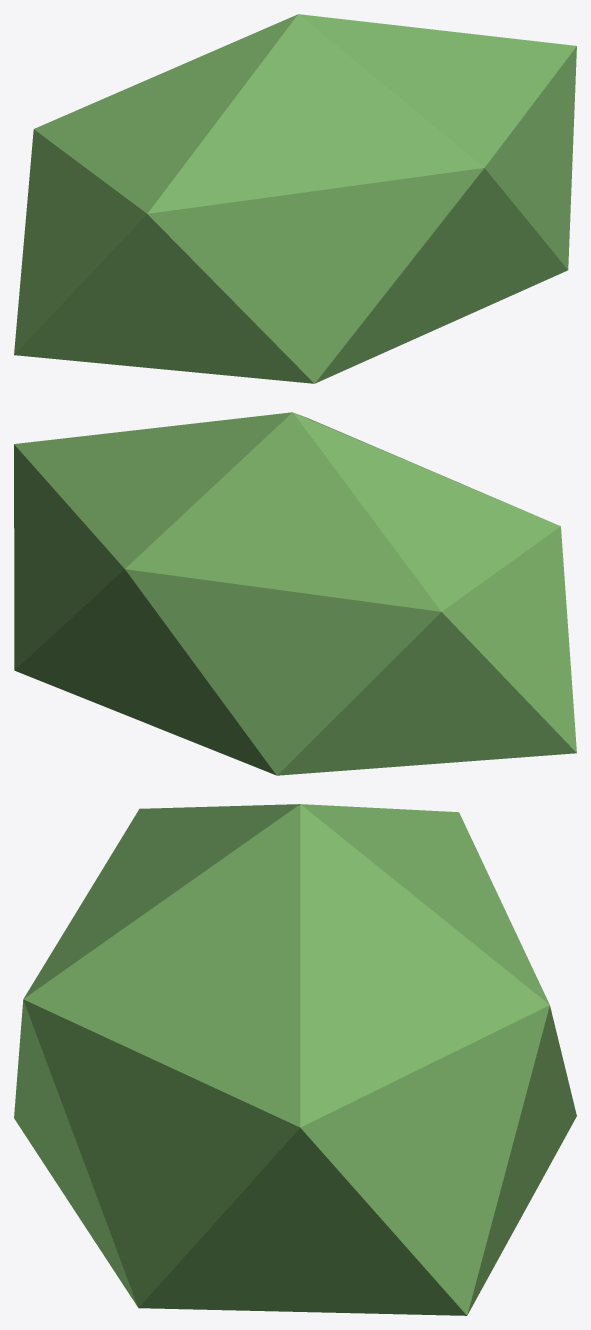
The model's file is item_065_pea_s.glb.
3 views of the same model, one above another, from view 1: azimuth 30°, elevation 25°; view 2: azimuth 150°, elevation 25°; view 3: azimuth 270°, elevation 25° (orthographic). The views are drawn at different scales.
Visible parts, largest first — view 1: item_065_pea_s; view 2: item_065_pea_s; view 3: item_065_pea_s.
Boxes of the visible parts, left/top/right/bottom form: item_065_pea_s: left=14, top=14, right=576, bottom=383; item_065_pea_s: left=14, top=412, right=576, bottom=775; item_065_pea_s: left=14, top=804, right=576, bottom=1315.
Size of the model in its own units: 0.3482 by 0.1993 by 0.2198.
